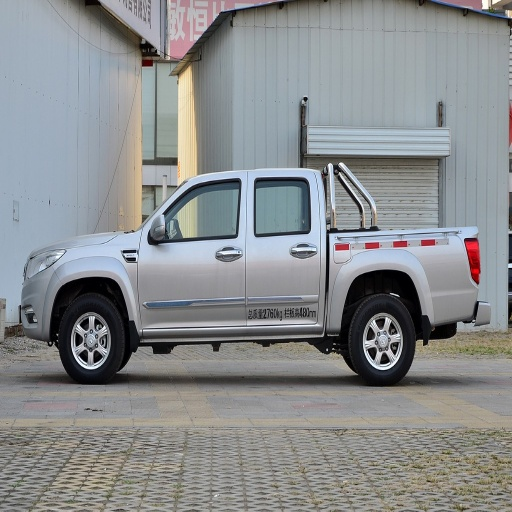back_left_door: (247, 175, 322, 320)
front_left_door: (138, 176, 249, 327)
trunk: (318, 232, 480, 331)
